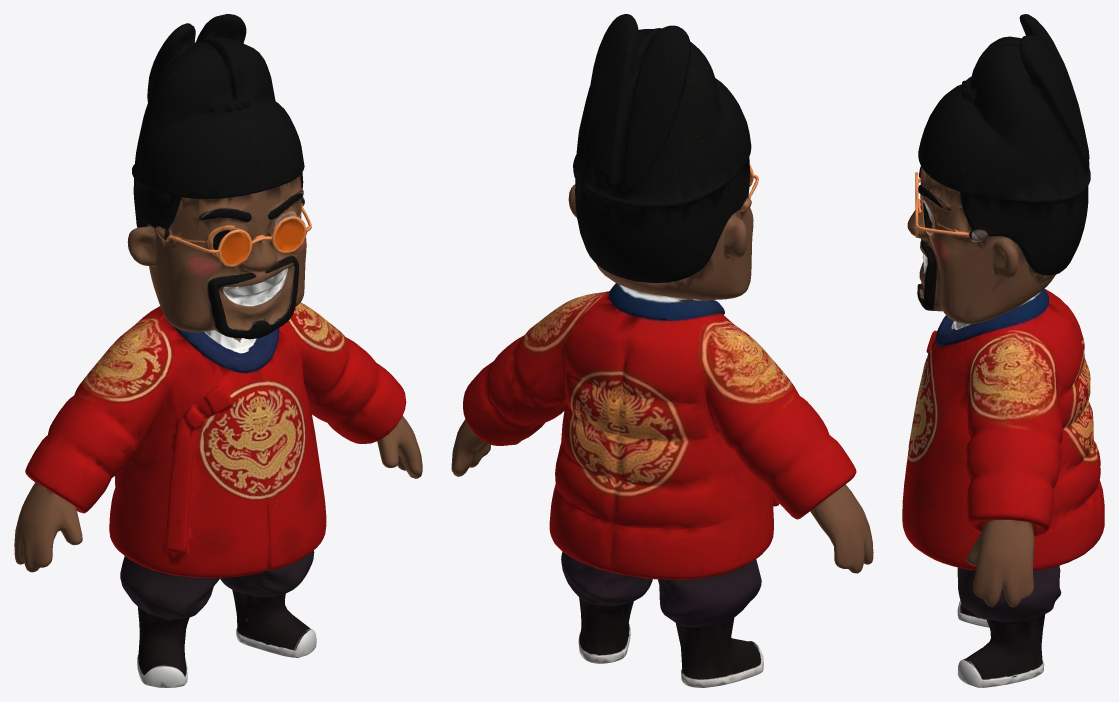
File: hero-sejong-v1.glb
3 renders of one model, left to right at view 1: azimuth 30°, elevation 25°; view 2: azimuth 150°, elevation 25°; view 3: azimuth 270°, elevation 25°, orthographic. The views are drawn at different scales.
Bounding box in the file's own units: 1.26 × 1.9 × 0.5616.
1 material, 1 textured.
